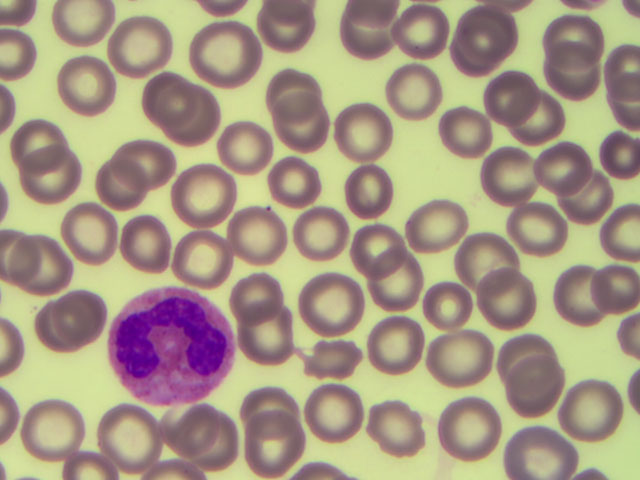RBC: (231, 408, 302, 480), (493, 408, 564, 480), (101, 11, 172, 82), (54, 50, 125, 121), (138, 70, 209, 141), (198, 24, 269, 95), (238, 2, 309, 73), (253, 58, 324, 129), (204, 110, 275, 181), (170, 163, 241, 234), (117, 132, 188, 203), (78, 153, 149, 224), (44, 202, 115, 273), (17, 231, 88, 302), (21, 134, 92, 205), (4, 105, 75, 176), (109, 210, 180, 281), (174, 226, 245, 297), (220, 200, 291, 271), (254, 157, 325, 228), (267, 195, 338, 266), (338, 161, 409, 232), (333, 99, 404, 170), (368, 60, 439, 131), (389, 3, 460, 74), (436, 6, 507, 77), (467, 59, 538, 130), (514, 83, 585, 154), (431, 103, 502, 174), (484, 140, 555, 211), (541, 134, 612, 205), (539, 167, 610, 238), (504, 198, 575, 269), (454, 217, 525, 288), (402, 189, 473, 260), (342, 211, 413, 282), (357, 240, 428, 311), (298, 269, 369, 340), (214, 248, 285, 319), (227, 297, 298, 368), (33, 290, 104, 361), (18, 386, 89, 457), (87, 398, 158, 469), (140, 394, 211, 465), (238, 369, 309, 440), (283, 368, 354, 439), (350, 393, 421, 464), (362, 307, 433, 378), (419, 316, 490, 387), (420, 268, 491, 339), (478, 265, 549, 336), (489, 308, 560, 379), (497, 350, 568, 421), (431, 394, 502, 465), (559, 369, 630, 440), (542, 257, 613, 328), (569, 254, 640, 325), (544, 35, 615, 106), (331, 6, 402, 77), (48, 1, 119, 71), (538, 1, 609, 71)
WBC: (106, 285, 235, 407)
